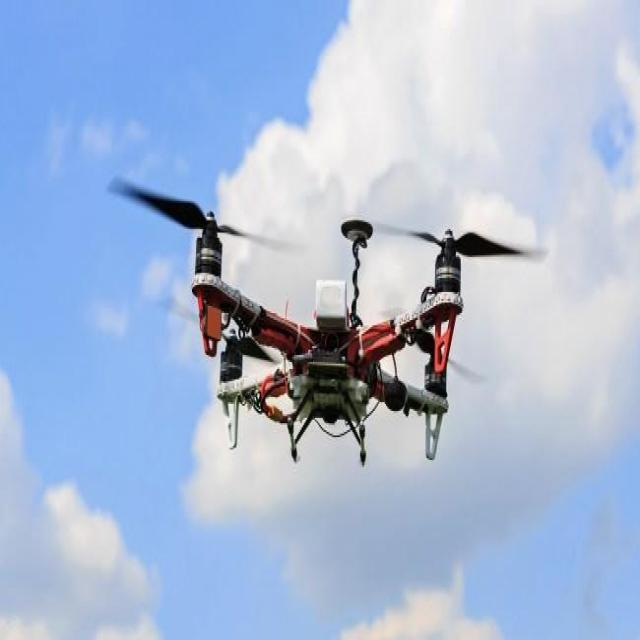UAV: (189, 192, 472, 469)
